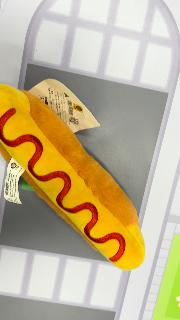hotdog: (0, 83, 146, 271)
